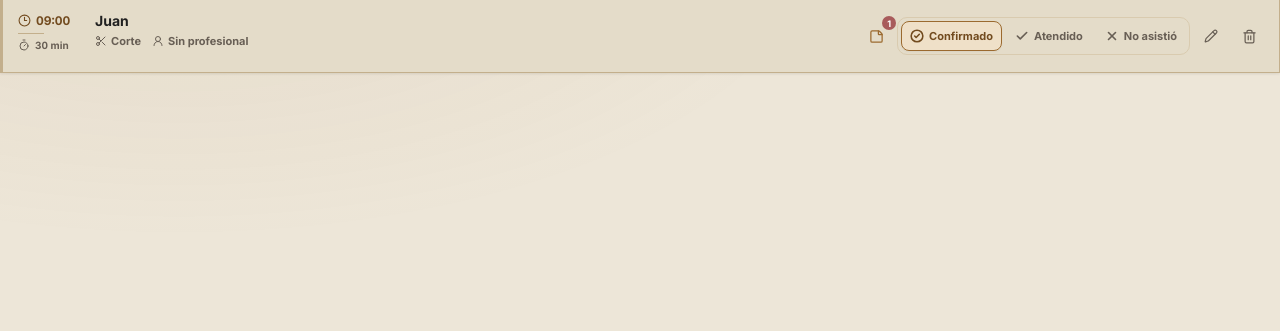
Scenario: Agenda: notas de la ficha del turno (55) › muestra sólo la nota del ID correcto aunque el nombre guardado sea antiguo
Click the button named "Notas del cliente" at {"x": 876, "y": 36}, box [859,19,893,53]
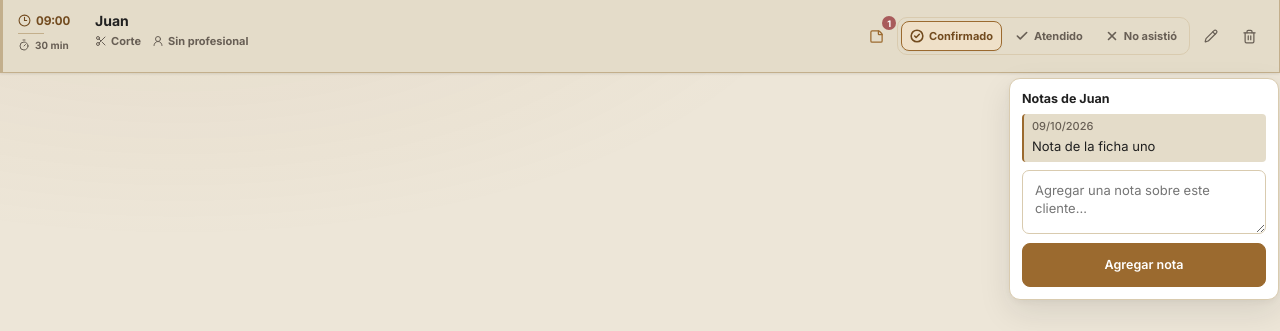
Expected: the text with class "note-count" reads "1", [887,18,891,28]
Expected: the text "Nota de la ficha uno" is shown, [1032,138,1155,154]
